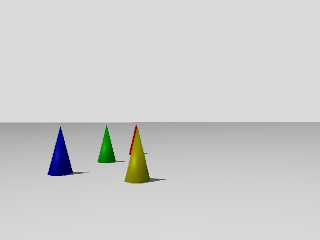blue: (47, 124, 73, 177)
green: (95, 124, 117, 165)
yellow: (126, 126, 151, 184)
